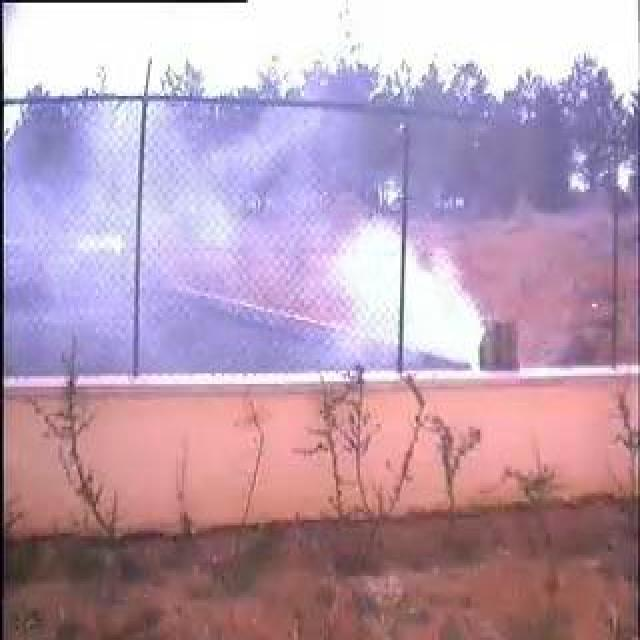Smoke: (96, 112, 494, 365)
